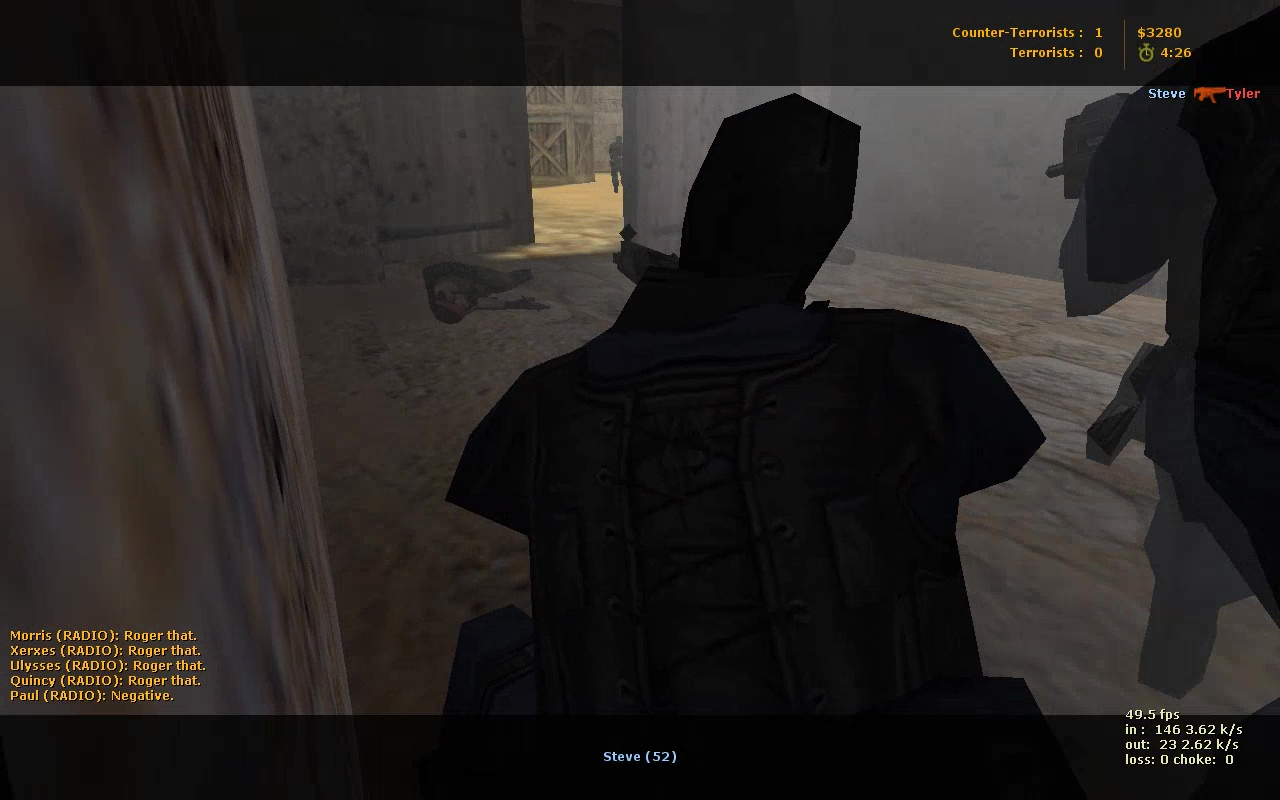ct: (608, 137, 625, 196)
dead: (424, 258, 547, 326)
